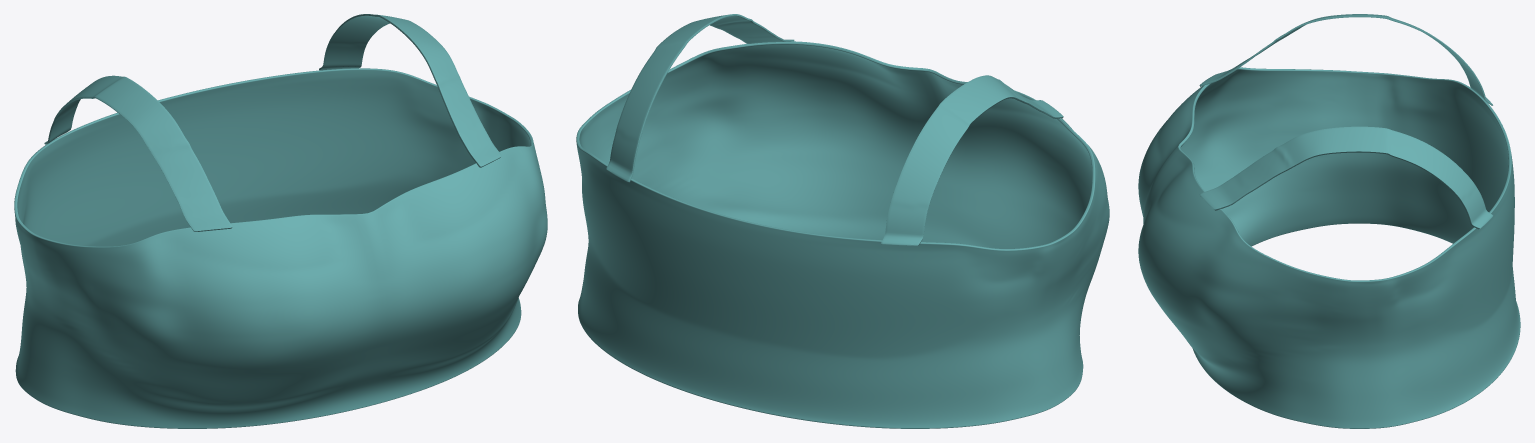
File: Feminine-tank-top.glb
The picture shows the model from 3 angles, left to right: view 1: azimuth 30°, elevation 25°; view 2: azimuth 150°, elevation 25°; view 3: azimuth 270°, elevation 25°; orthographic projection. The views are drawn at different scales.
Visible parts, largest first — view 1: Clothing / tank body, Clothing / Tank sewn strap201 -1, Clothing / Tank sewn strap201 1; view 2: Clothing / tank body, Clothing / Tank sewn strap201 -1, Clothing / Tank sewn strap201 1; view 3: Clothing / tank body, Clothing / Tank sewn strap201 1, Clothing / Tank sewn strap201 -1.
Boxes of the visible parts, x1,y1,x2,y2 form: Clothing / tank body: [14, 68, 547, 428]; Clothing / Tank sewn strap201 -1: [44, 75, 232, 231]; Clothing / Tank sewn strap201 1: [319, 14, 501, 167]; Clothing / tank body: [576, 41, 1109, 428]; Clothing / Tank sewn strap201 -1: [881, 75, 1063, 245]; Clothing / Tank sewn strap201 1: [606, 14, 794, 182]; Clothing / tank body: [1138, 67, 1520, 428]; Clothing / Tank sewn strap201 1: [1199, 126, 1493, 229]; Clothing / Tank sewn strap201 -1: [1199, 14, 1492, 105].
Size of the model in its own units: 0.6125 by 0.3463 by 0.4704.
